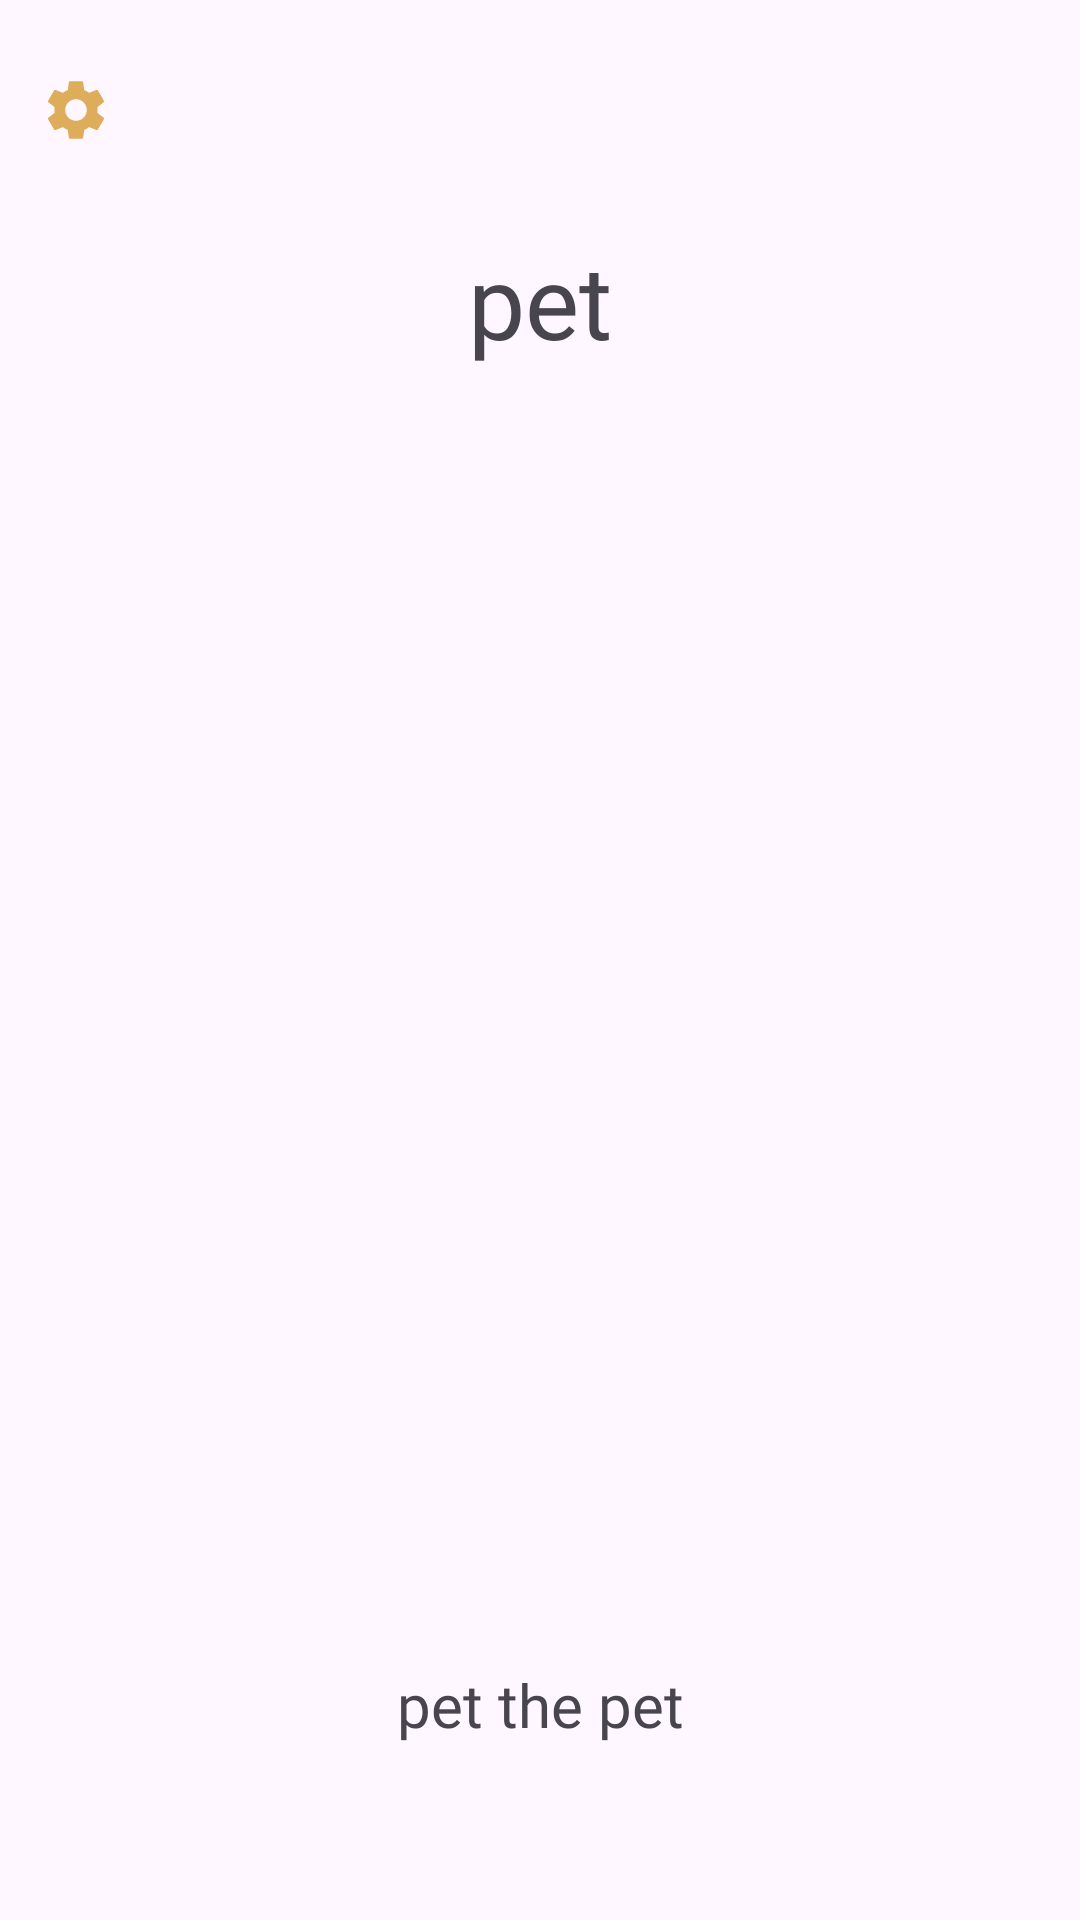

Icons on this 1080 × 1920 Android screen, each with its box as (x1, y1, x2, y2):
settings: (48, 81, 104, 139)
